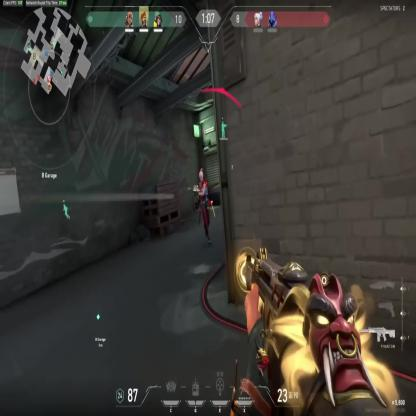enemy: (197, 167, 211, 244)
enemy_head: (198, 169, 204, 184)
